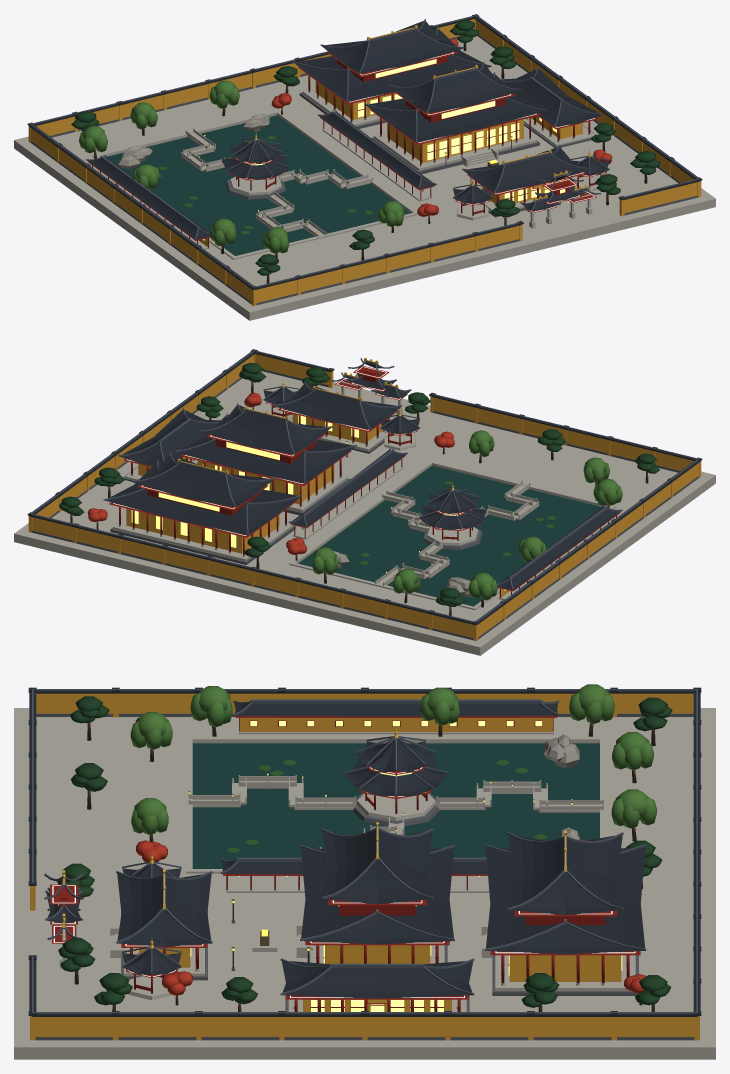
File: xiyuan_temple.glb
3 renders of one model, top to bottom at view 1: azimuth 30°, elevation 25°; view 2: azimuth 150°, elevation 25°; view 3: azimuth 270°, elevation 25°, orthographic. The views are drawn at different scales.
Parts seen in each view (by area): view 1: XiyuanTemple; view 2: XiyuanTemple; view 3: XiyuanTemple.
Part boxes in pixels (x1,y1,x2,y2): XiyuanTemple: (14, 14, 715, 320); XiyuanTemple: (14, 349, 715, 655); XiyuanTemple: (14, 684, 715, 1059).
Bounding box in the file's own units: 128 × 21.41 × 112.
